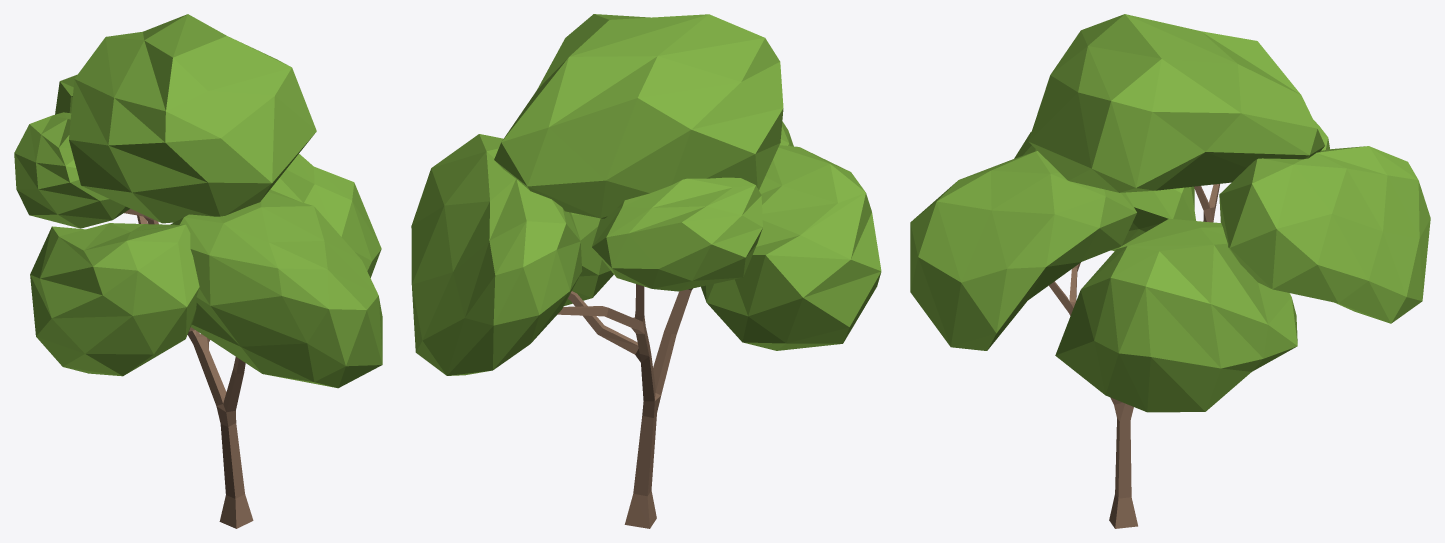
The model's file is Tree.gltf.
3 views of the same model, side by side, from view 1: azimuth 30°, elevation 25°; view 2: azimuth 150°, elevation 25°; view 3: azimuth 270°, elevation 25° (orthographic). The views are drawn at different scales.
Parts seen in each view (by area): view 1: Tree_01; view 2: Tree_01; view 3: Tree_01.
Boxes of the visible parts, x1=… form: Tree_01: x1=14, y1=14, x2=382, y2=528; Tree_01: x1=411, y1=14, x2=881, y2=528; Tree_01: x1=910, y1=14, x2=1430, y2=528.
Bounding box in the file's own units: 2.03 × 2.67 × 2.63.
1 material, 1 textured.
